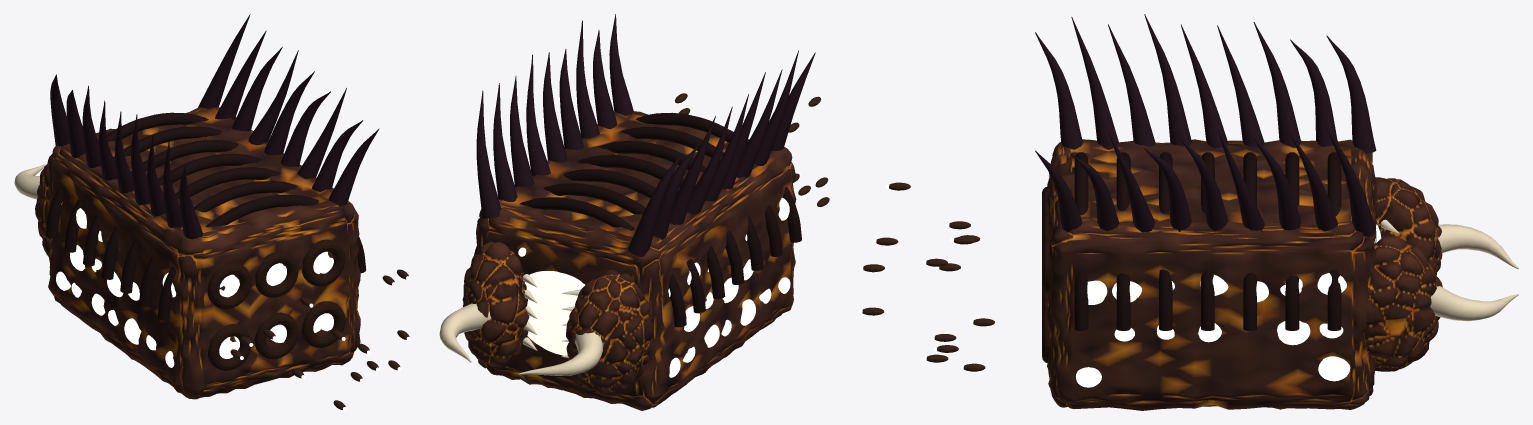
File: kethrak_titan.glb
3 views of the same model, side by side, from view 1: azimuth 30°, elevation 25°; view 2: azimuth 150°, elevation 25°; view 3: azimuth 270°, elevation 25° (orthographic). The views are drawn at different scales.
Parts seen in each view (by area): view 1: kethrak_titan.001; view 2: kethrak_titan.001; view 3: kethrak_titan.001.
Boxes of the visible parts, x1,y1,x2,y2 form: kethrak_titan.001: [14, 14, 410, 410]; kethrak_titan.001: [439, 14, 830, 410]; kethrak_titan.001: [859, 14, 1518, 410].
Size of the model in its own units: 4.09 by 5.06 by 10.
